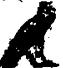Owl: (2, 2, 59, 67)
